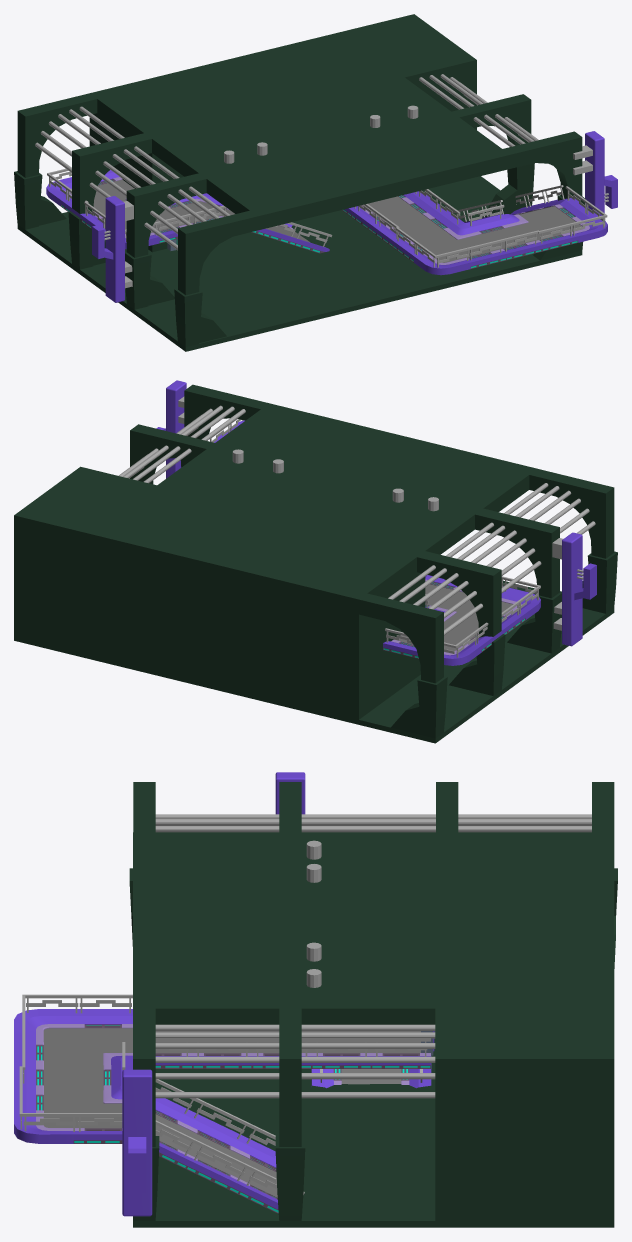
Rendered from Walkway_UV.fbx.
The picture shows the model from 3 angles, top to bottom: view 1: azimuth 30°, elevation 25°; view 2: azimuth 150°, elevation 25°; view 3: azimuth 270°, elevation 25°; orthographic projection. The views are drawn at different scales.
Visible parts, largest first — view 1: Walkway_UV; view 2: Walkway_UV; view 3: Walkway_UV.
Part boxes in pixels (x1,y1,x2,y2): Walkway_UV: (14, 14, 617, 351); Walkway_UV: (14, 380, 617, 743); Walkway_UV: (14, 772, 617, 1227).
Size of the model in its own units: 25.84 by 7.22 by 20.27.
